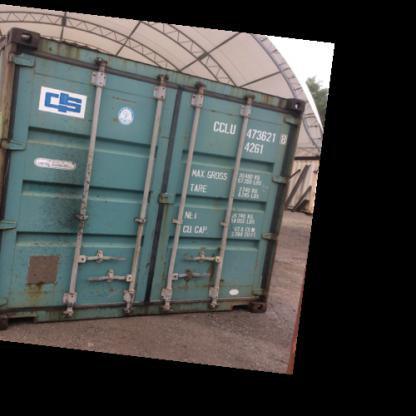Damage: (256, 96, 306, 310), (42, 122, 100, 232), (4, 27, 88, 68), (19, 233, 70, 297), (161, 266, 226, 309)
